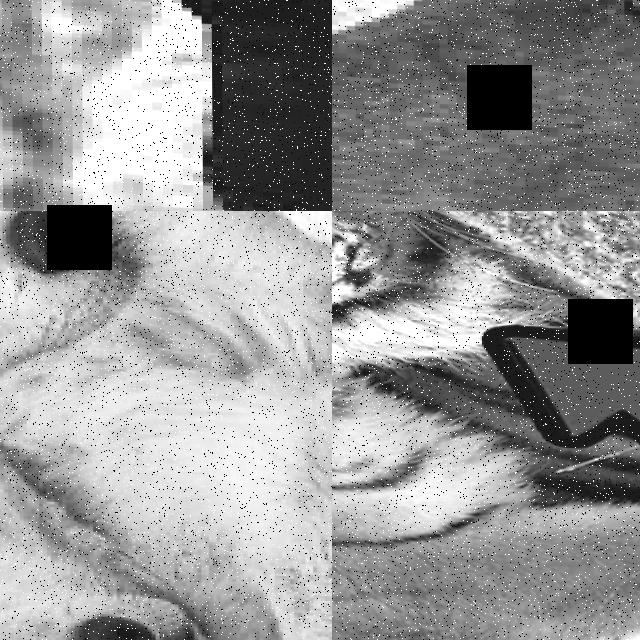dog: (0, 0, 332, 211), (332, 0, 640, 211)
wolf: (0, 211, 332, 640), (332, 211, 640, 380), (0, 211, 127, 506)
